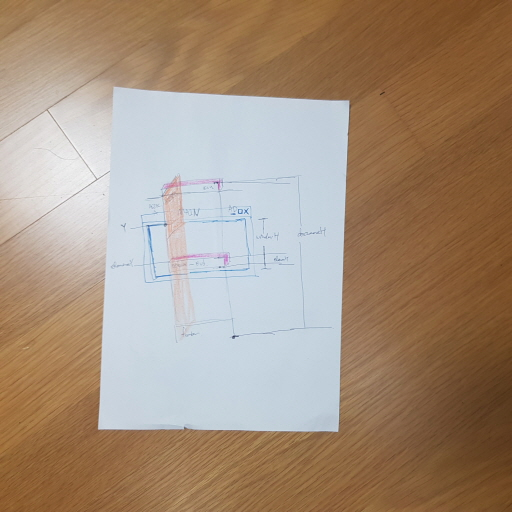Paper_2: (90, 80, 360, 442)
